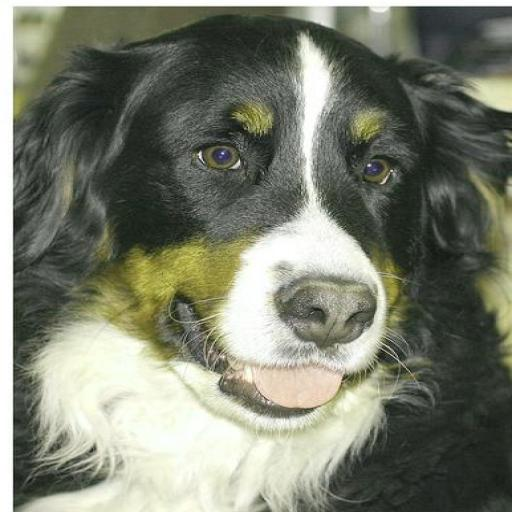dog_face: (28, 27, 457, 410)
